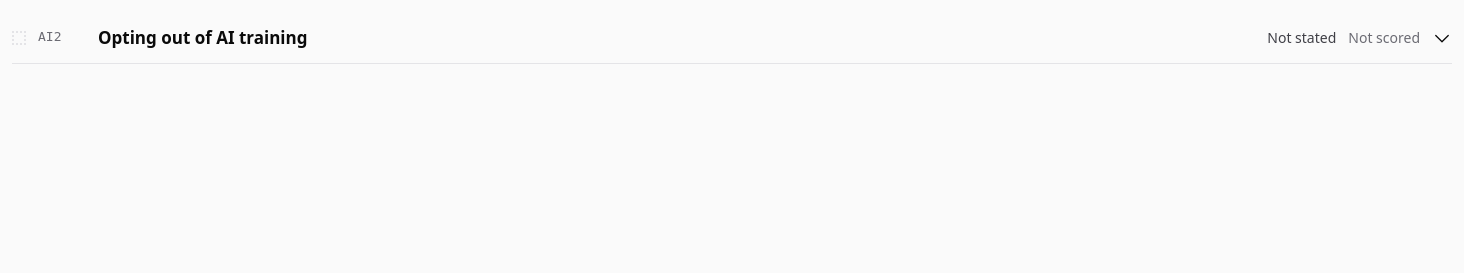
it: FlagRow › shows no 'Why' line when the pipeline gave no model rationale
The width and height of the screenshot is (1464, 273).
Click the button at {"x": 52, "y": 49}, box [12,12,1452,63]
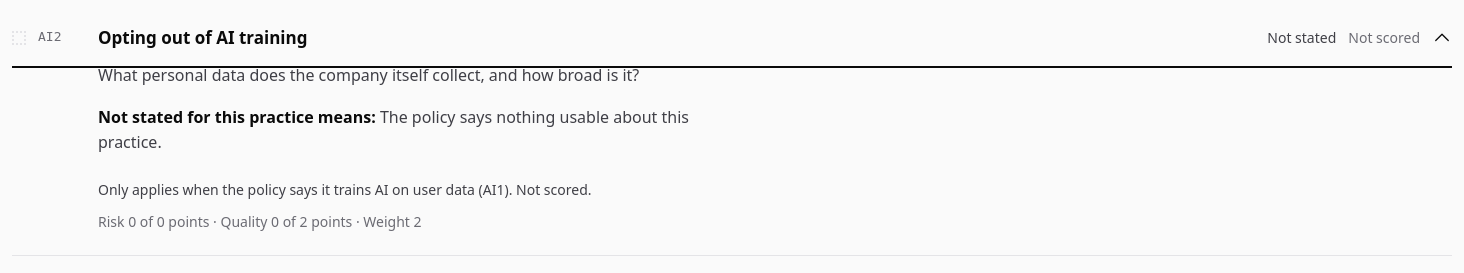
Expected: the text "Only applies when the policy says it trains AI on user data" is shown, [98,180,592,199]
